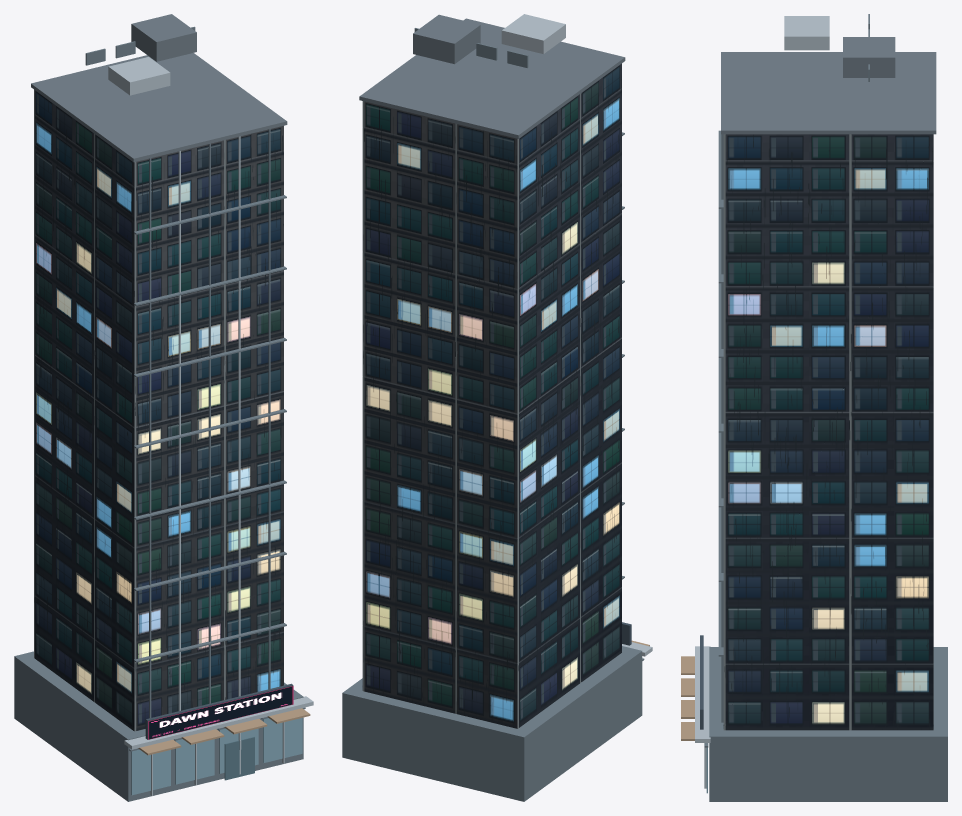
Rendered from building_11.glb.
3 renders of one model, left to right at view 1: azimuth 30°, elevation 25°; view 2: azimuth 150°, elevation 25°; view 3: azimuth 270°, elevation 25°, orthographic. The views are drawn at different scales.
Visible parts, largest first — view 1: facade_0, facade_sideb_3, frame, roof, alum, glass, sign_8, wood, tint, concrete; view 2: facade_back_1, facade_sideb_3, frame, roof, alum, concrete, facade_side_2; view 3: facade_side_2, frame, roof, alum, wood.
Part boxes in pixels (<box>): facade_0: <box>134,126,283,731</box>; facade_sideb_3: <box>34,89,134,730</box>; frame: <box>14,26,305,801</box>; roof: <box>31,14,287,162</box>; alum: <box>108,57,313,795</box>; glass: <box>131,718,302,795</box>; sign_8: <box>148,686,293,739</box>; wood: <box>138,708,310,755</box>; tint: <box>224,736,254,780</box>; concrete: <box>134,162,134,730</box>; facade_back_1: <box>363,101,517,728</box>; facade_sideb_3: <box>518,63,621,728</box>; frame: <box>342,28,644,801</box>; roof: <box>359,14,625,138</box>; alum: <box>501,14,652,656</box>; concrete: <box>517,139,517,728</box>; facade_side_2: <box>362,101,362,690</box>; facade_side_2: <box>723,134,933,730</box>; frame: <box>704,14,947,801</box>; roof: <box>721,37,936,134</box>; alum: <box>695,16,829,788</box>; wood: <box>681,656,694,740</box>.
Bounding box in the file's own units: 23.2 × 84.2 × 28.18.
19 materials, 9 textured.
